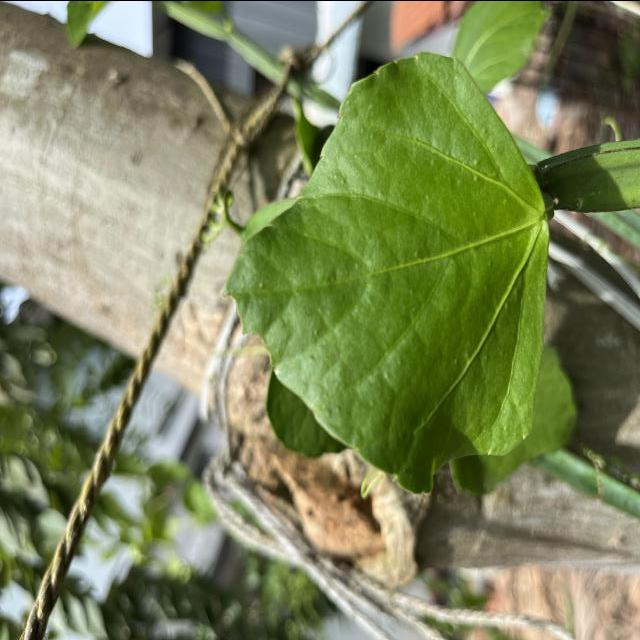Cissus quadrangularis: (218, 48, 556, 502)
